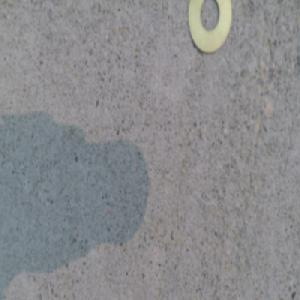Washer: (186, 0, 232, 57)
